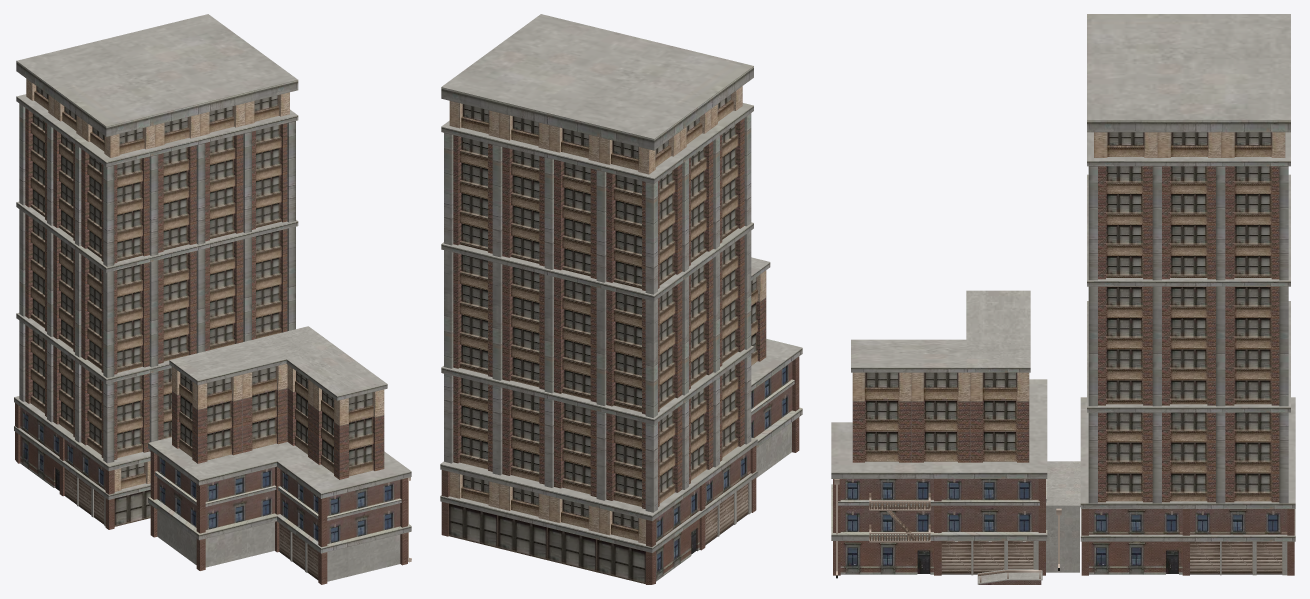
The model's file is gamecity.glb.
3 renders of one model, left to right at view 1: azimuth 30°, elevation 25°; view 2: azimuth 150°, elevation 25°; view 3: azimuth 270°, elevation 25°, orthographic. The views are drawn at different scales.
Parts seen in each view (by area): view 1: Atlas.016_13, Atlas.002_26, Cube.007_4, Cube.002_8, Atlas.014_15, Atlas.006_23, Cube.005_5, Cube.004_6, Atlas.017_12, Cube_10, Cube.003_7, Atlas.011_18 (+2 smaller); view 2: Atlas.016_13, Cube.007_4, Cube.002_8, Atlas.002_26, Atlas.011_18, Atlas.014_15, Atlas.015_14, Cube_10, Cube.005_5, Cube.004_6, Cube.003_7, Cube.001_9 (+6 smaller); view 3: Atlas.002_26, Atlas.016_13, Cube.007_4, Cube.002_8, Atlas.005_24, Atlas.018_11, Cube_10, Cube.005_5, Cube.004_6, Cube.003_7, Cube.001_9, Atlas.001_27 (+2 smaller).
Boxes of the visible parts, bbox=[...] form: Atlas.016_13: bbox=[25, 108, 287, 459]; Atlas.002_26: bbox=[148, 326, 411, 584]; Cube.007_4: bbox=[16, 14, 298, 136]; Cube.002_8: bbox=[19, 103, 295, 463]; Atlas.014_15: bbox=[15, 403, 114, 529]; Atlas.006_23: bbox=[110, 92, 289, 157]; Cube.005_5: bbox=[16, 94, 298, 166]; Cube.004_6: bbox=[16, 201, 298, 272]; Atlas.017_12: bbox=[26, 79, 110, 157]; Cube_10: bbox=[14, 396, 150, 471]; Cube.003_7: bbox=[16, 313, 171, 383]; Atlas.011_18: bbox=[114, 490, 150, 526]; Atlas.016_13: bbox=[453, 118, 744, 508]; Cube.007_4: bbox=[441, 14, 753, 150]; Cube.002_8: bbox=[444, 113, 751, 512]; Atlas.002_26: bbox=[751, 257, 802, 477]; Atlas.011_18: bbox=[448, 503, 645, 584]; Atlas.014_15: bbox=[646, 445, 756, 584]; Atlas.015_14: bbox=[449, 101, 648, 174]; Cube_10: bbox=[440, 437, 757, 521]; Cube.005_5: bbox=[441, 103, 753, 183]; Cube.004_6: bbox=[441, 222, 753, 301]; Cube.003_7: bbox=[441, 346, 753, 424]; Cube.001_9: bbox=[440, 470, 757, 552]; Atlas.002_26: bbox=[831, 290, 1080, 578]; Atlas.016_13: bbox=[1098, 166, 1279, 502]; Cube.007_4: bbox=[1087, 14, 1290, 132]; Cube.002_8: bbox=[1088, 166, 1288, 503]; Atlas.005_24: bbox=[1081, 509, 1294, 575]; Atlas.018_11: bbox=[1094, 132, 1285, 157]; Cube_10: bbox=[1080, 397, 1295, 508]; Cube.005_5: bbox=[1087, 132, 1290, 166]; Cube.004_6: bbox=[1087, 174, 1290, 286]; Cube.003_7: bbox=[1087, 301, 1290, 412]; Cube.001_9: bbox=[1080, 509, 1295, 541]; Atlas.001_27: bbox=[977, 569, 1042, 584].
Bounding box in the file's own units: 1.73 × 3.22 × 2.96.
1 material, 1 textured.
